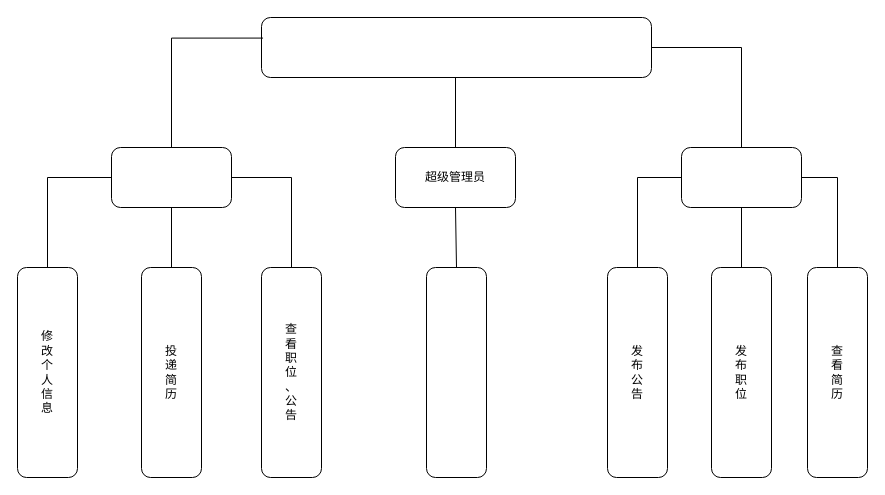
Image size: 885x495. Some labels were removed from this diagram. The centre of each missing label's shape, as x and y in pixels:
"企业招聘者" belongs at point (741, 177).
"对 用 户 账 号 进 行 管 理" belongs at point (456, 372).
"求职者" belongs at point (171, 177).
"进入系统" belongs at point (456, 47).
